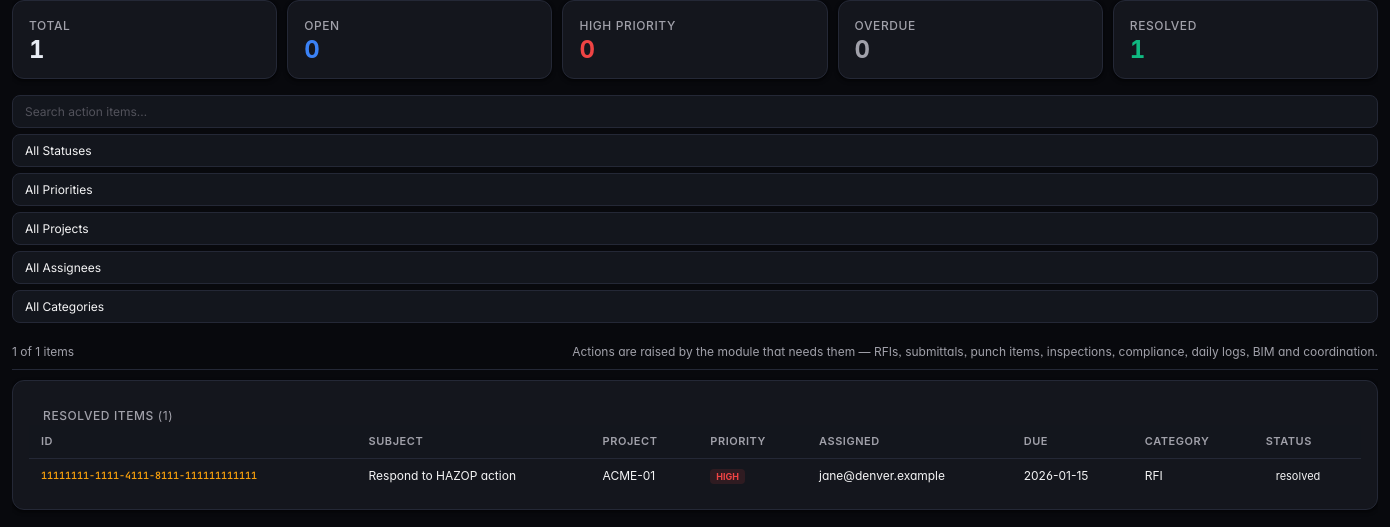
Test: the detail panel offers the transitions the API accepts › offers Reopen, and only Reopen, on a completed action
Click the text "Respond to HAZOP action": (474, 475) [356,458,590,493]
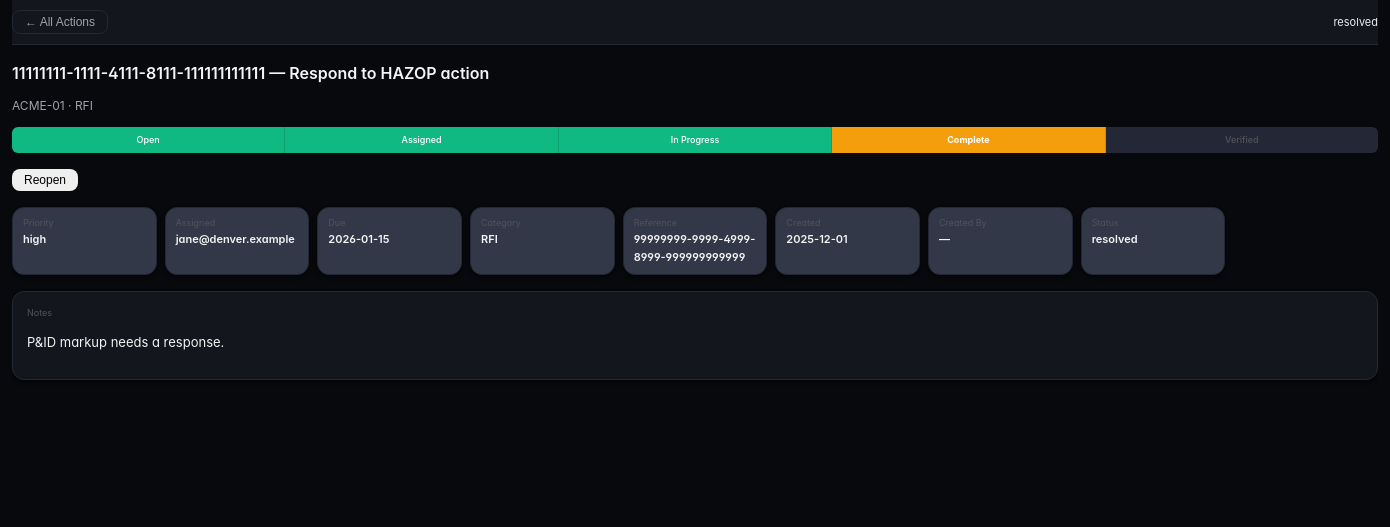
Expected: the button "← All Actions" is shown, [12,10,108,34]
Expected: the button "Reopen" is shown, [12,168,78,190]
